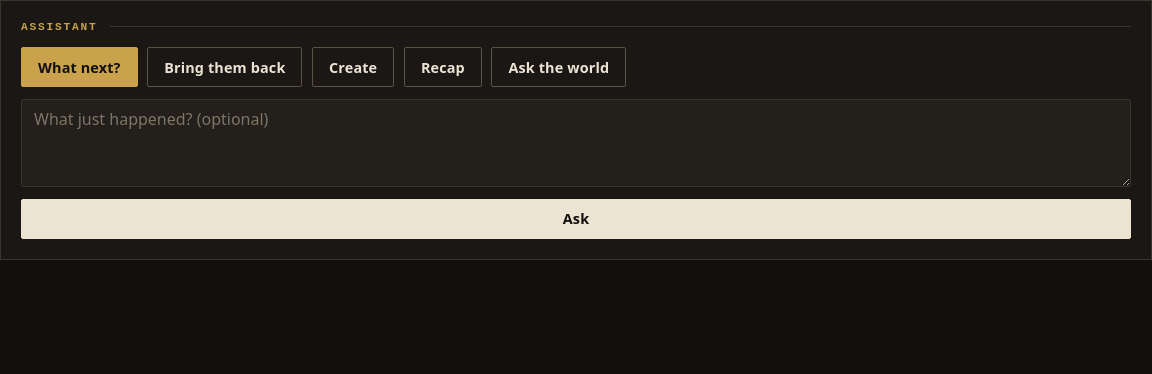
Test: AssistantPanel › writes a bridge scene for what the players did
Click the button with test id "job-bridge". click: (225, 67)
box: [147,47,302,87]
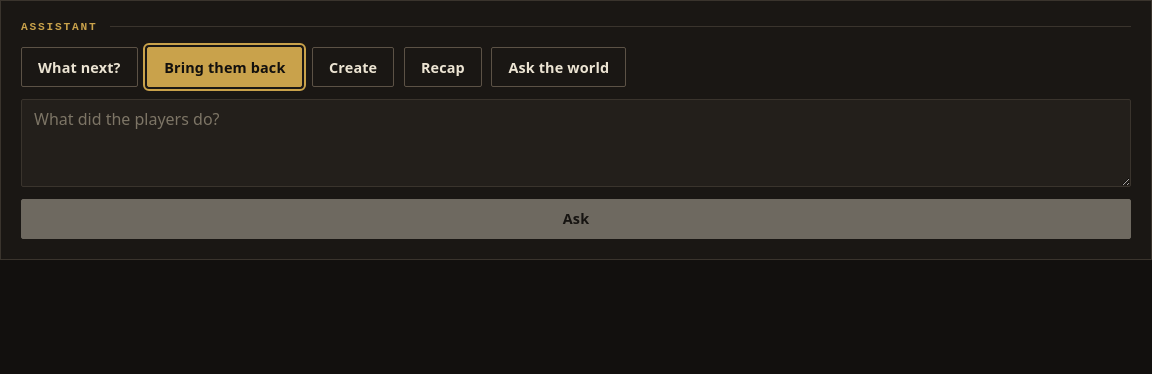
expect the button with test id "ai-ask" is disabled: met, box [21,199,1131,239]
Type "They went to the casino." into the text box with test id "job-text". click: (576, 143)
box: [21,99,1131,187]
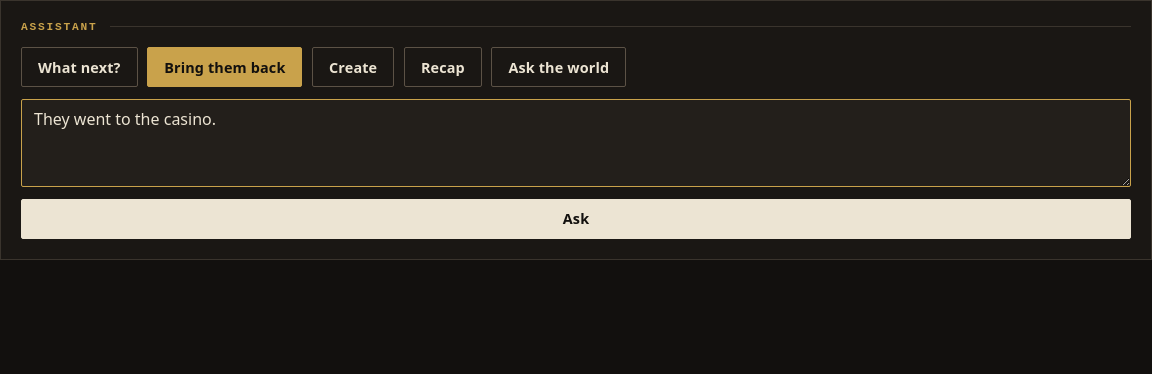
Click the button with test id "ai-ask". click: (576, 219)
box: [21,199,1131,239]
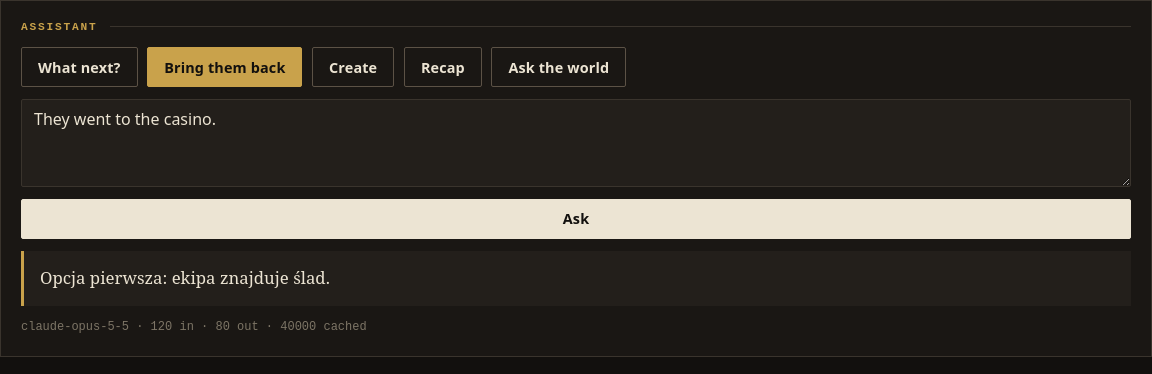
expect the text "Opcja pierwsza: ekipa znajduje ślad." is shown: met, box [21,251,1131,306]
